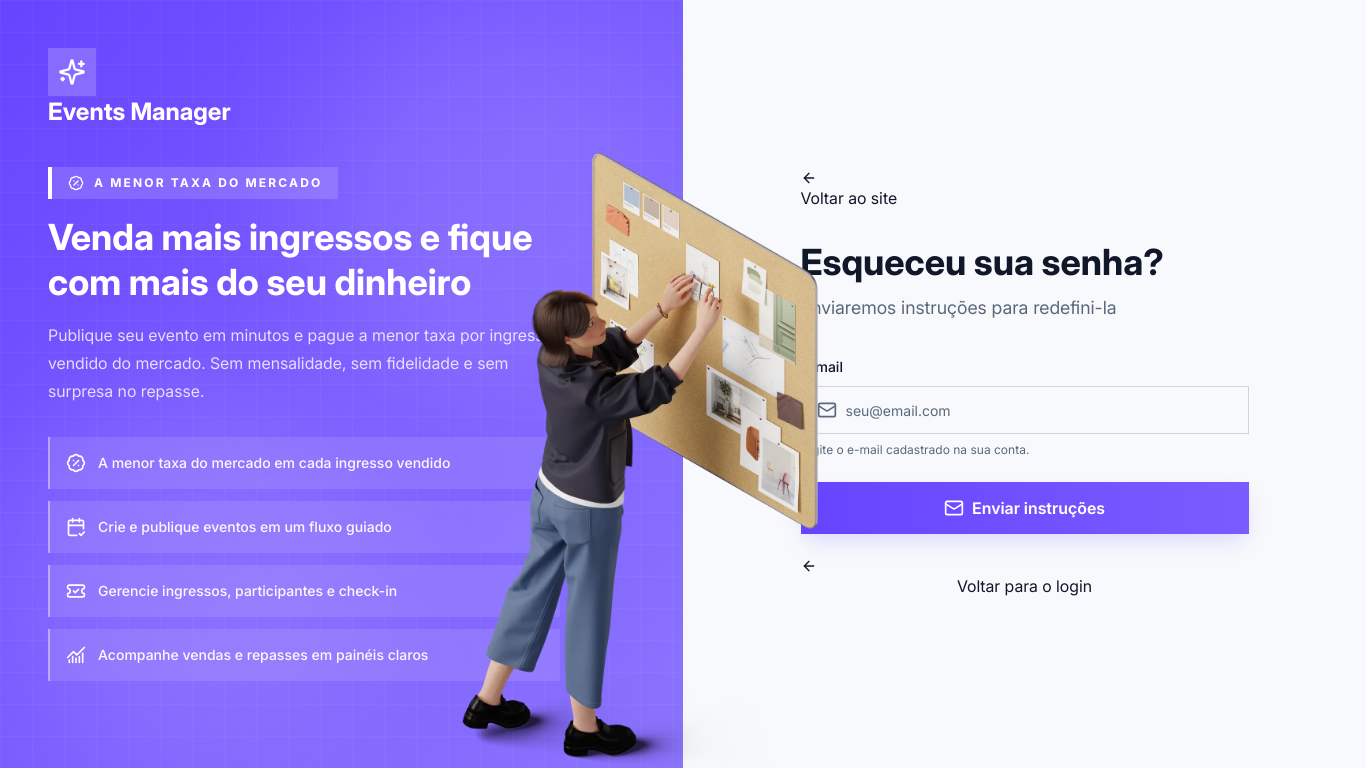
Scenario: ForgotPasswordPage › asks the API for a recovery e-mail and confirms without revealing whether the account exists
This screenshot has width=1366, height=768.
In the field labelled "E-mail": (1024, 410) [800,386,1248,434], type "ana@example.com"
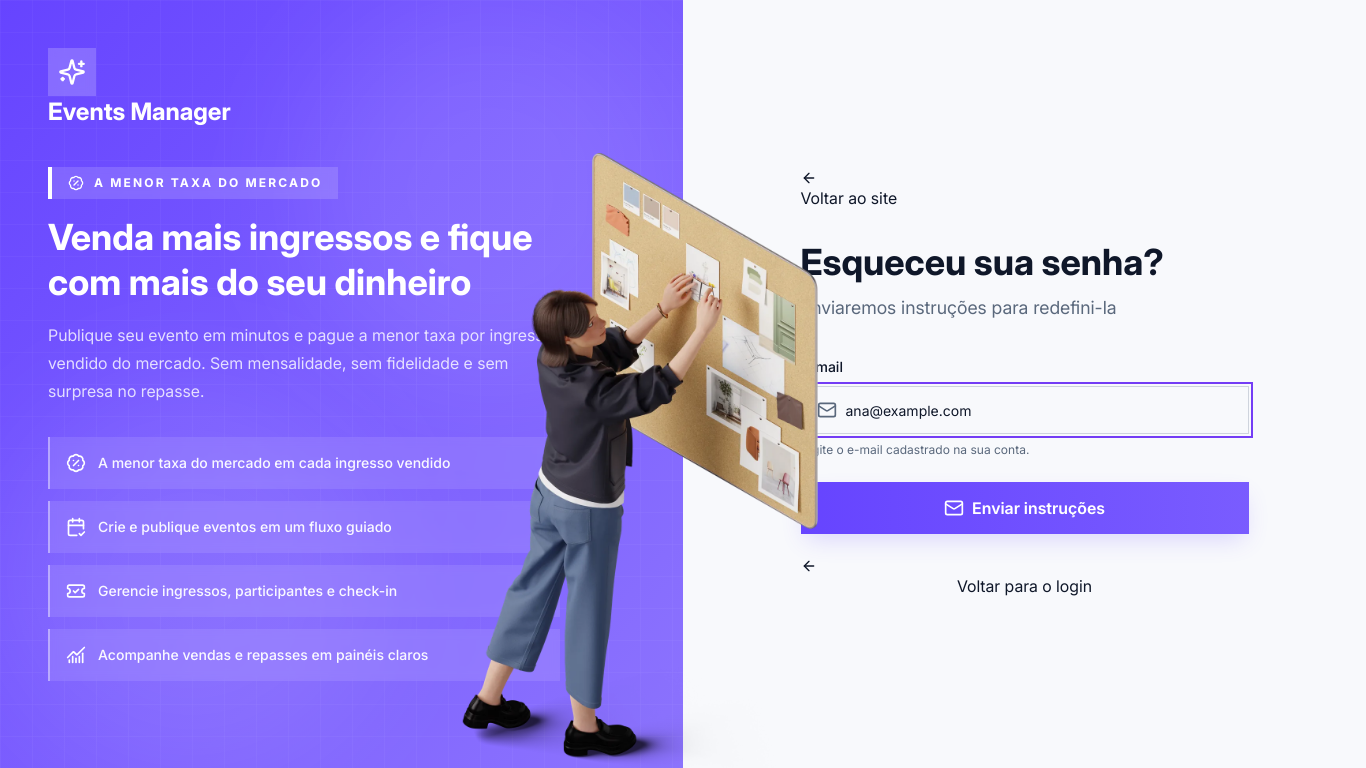
Click the button "Enviar instruções": (1024, 508) [800,482,1248,534]
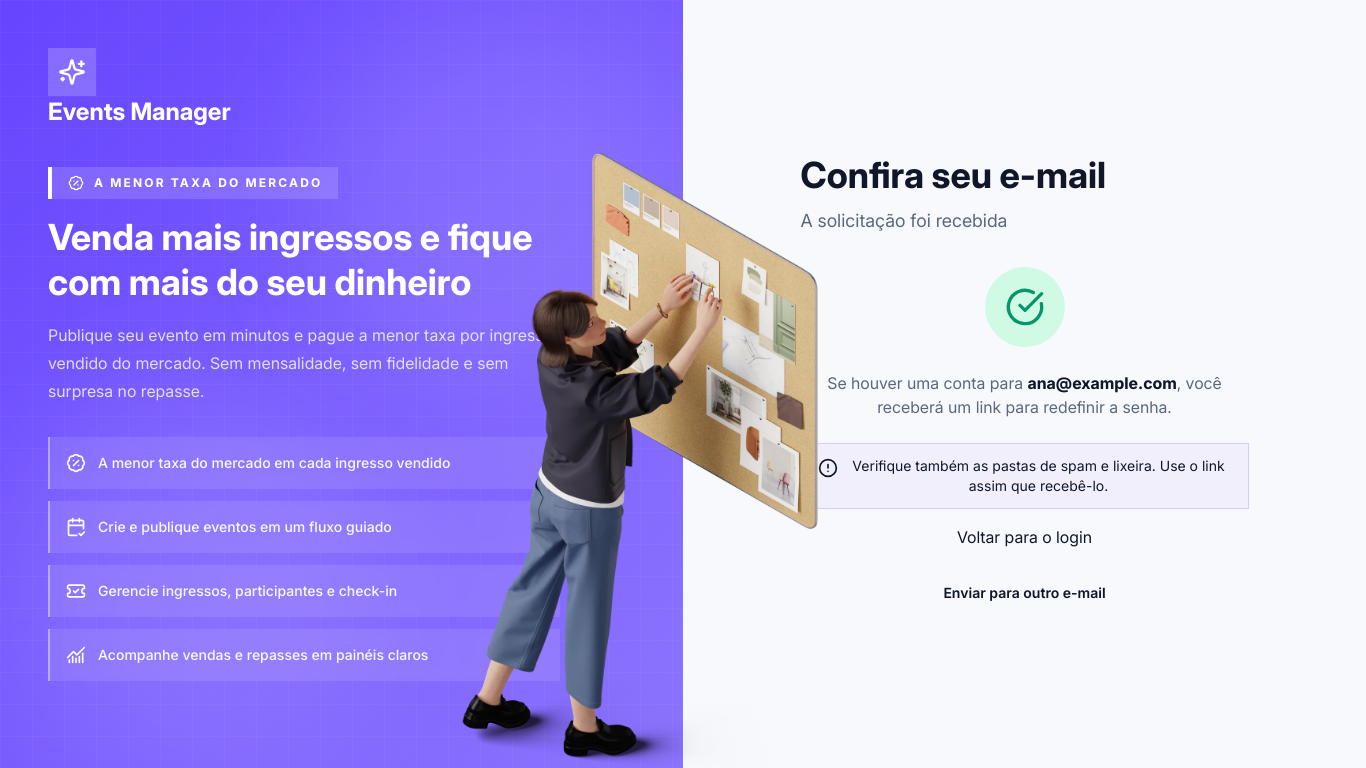
Expected: the heading "Confira seu e-mail" is shown, [800,153,1106,197]
Expected: the text "Se houver uma conta para" shows "ana@example.com", [1027,373,1177,393]
